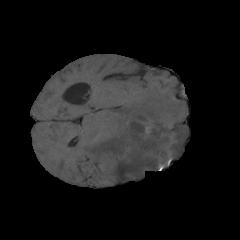glioma: (84, 89, 189, 181)
